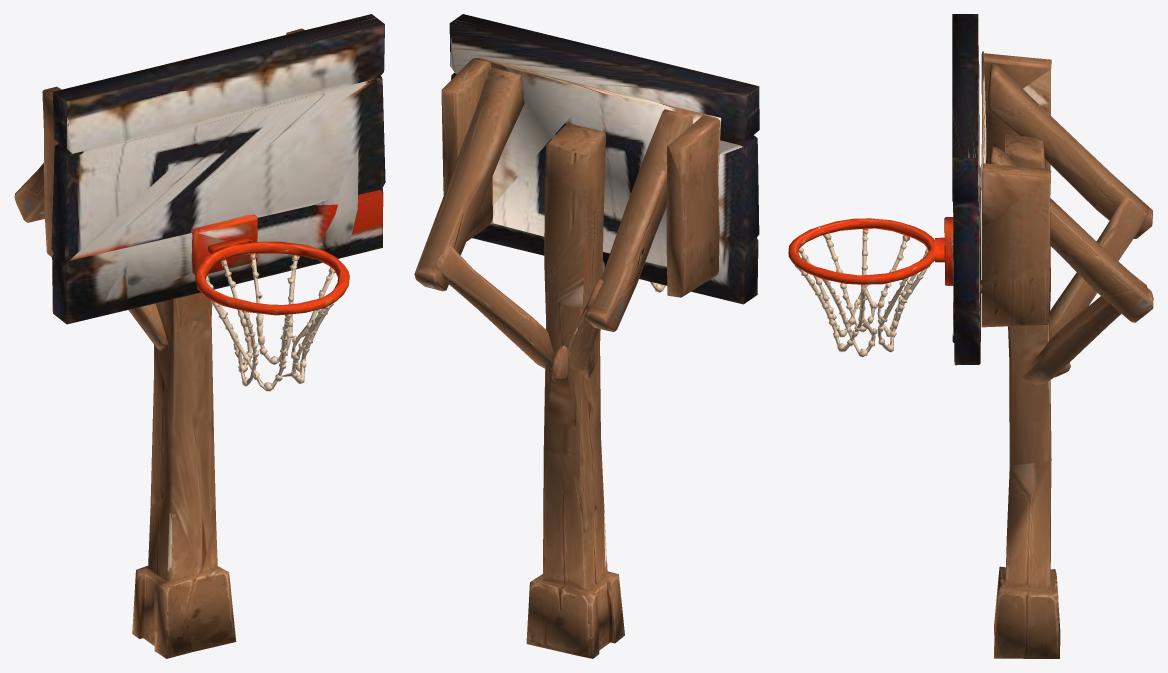
Rendered from basketball_pole.glb.
3 renders of one model, left to right at view 1: azimuth 30°, elevation 25°; view 2: azimuth 150°, elevation 25°; view 3: azimuth 270°, elevation 25°, orthographic. The views are drawn at different scales.
Parts seen in each view (by area): view 1: Mesh0; view 2: Mesh0; view 3: Mesh0.
Boxes of the visible parts, left/top/right/bottom form: Mesh0: left=14, top=14, right=385, bottom=658; Mesh0: left=414, top=14, right=759, bottom=658; Mesh0: left=788, top=14, right=1153, bottom=658.
Bounding box in the file's own units: 0.5571 × 1 × 0.5928.
1 material, 1 textured.
